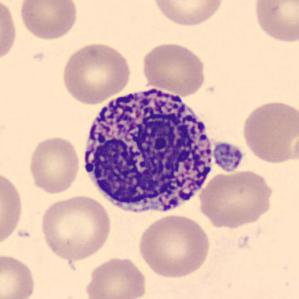Basophil: (76, 78, 220, 222)
Platelets: (211, 139, 245, 174)
RBC: (135, 212, 212, 280), (38, 194, 114, 262), (59, 40, 133, 106), (197, 168, 276, 229), (239, 98, 297, 165), (140, 40, 208, 96), (26, 133, 82, 195), (83, 254, 149, 299), (17, 0, 80, 42), (149, 0, 227, 28), (250, 0, 298, 44), (0, 168, 26, 249), (0, 252, 37, 299), (0, 0, 19, 64)
